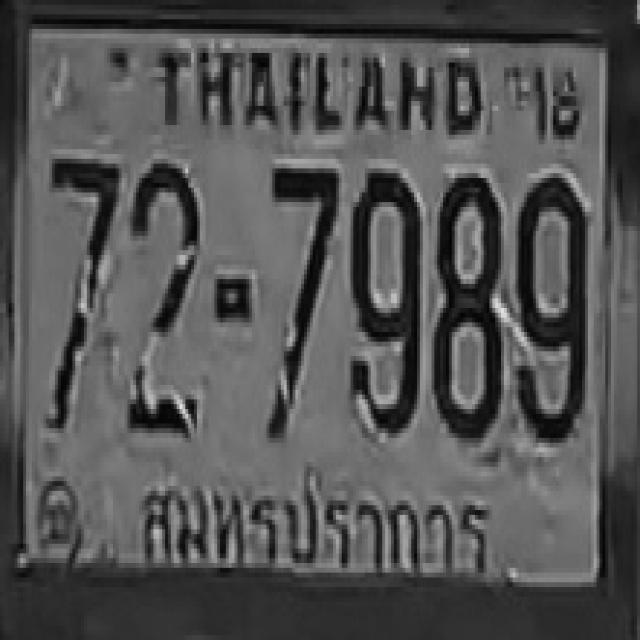2: (124, 156, 197, 421)
7: (266, 164, 336, 438), (48, 154, 117, 423)
8: (431, 168, 501, 438)
9: (346, 166, 419, 431), (515, 171, 585, 440)
SamutPrakan: (127, 453, 496, 600)
